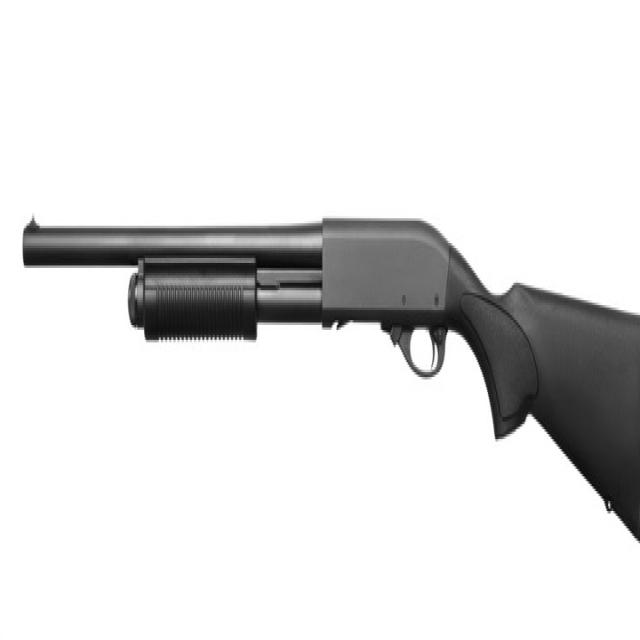Weapon: (23, 221, 640, 540)
